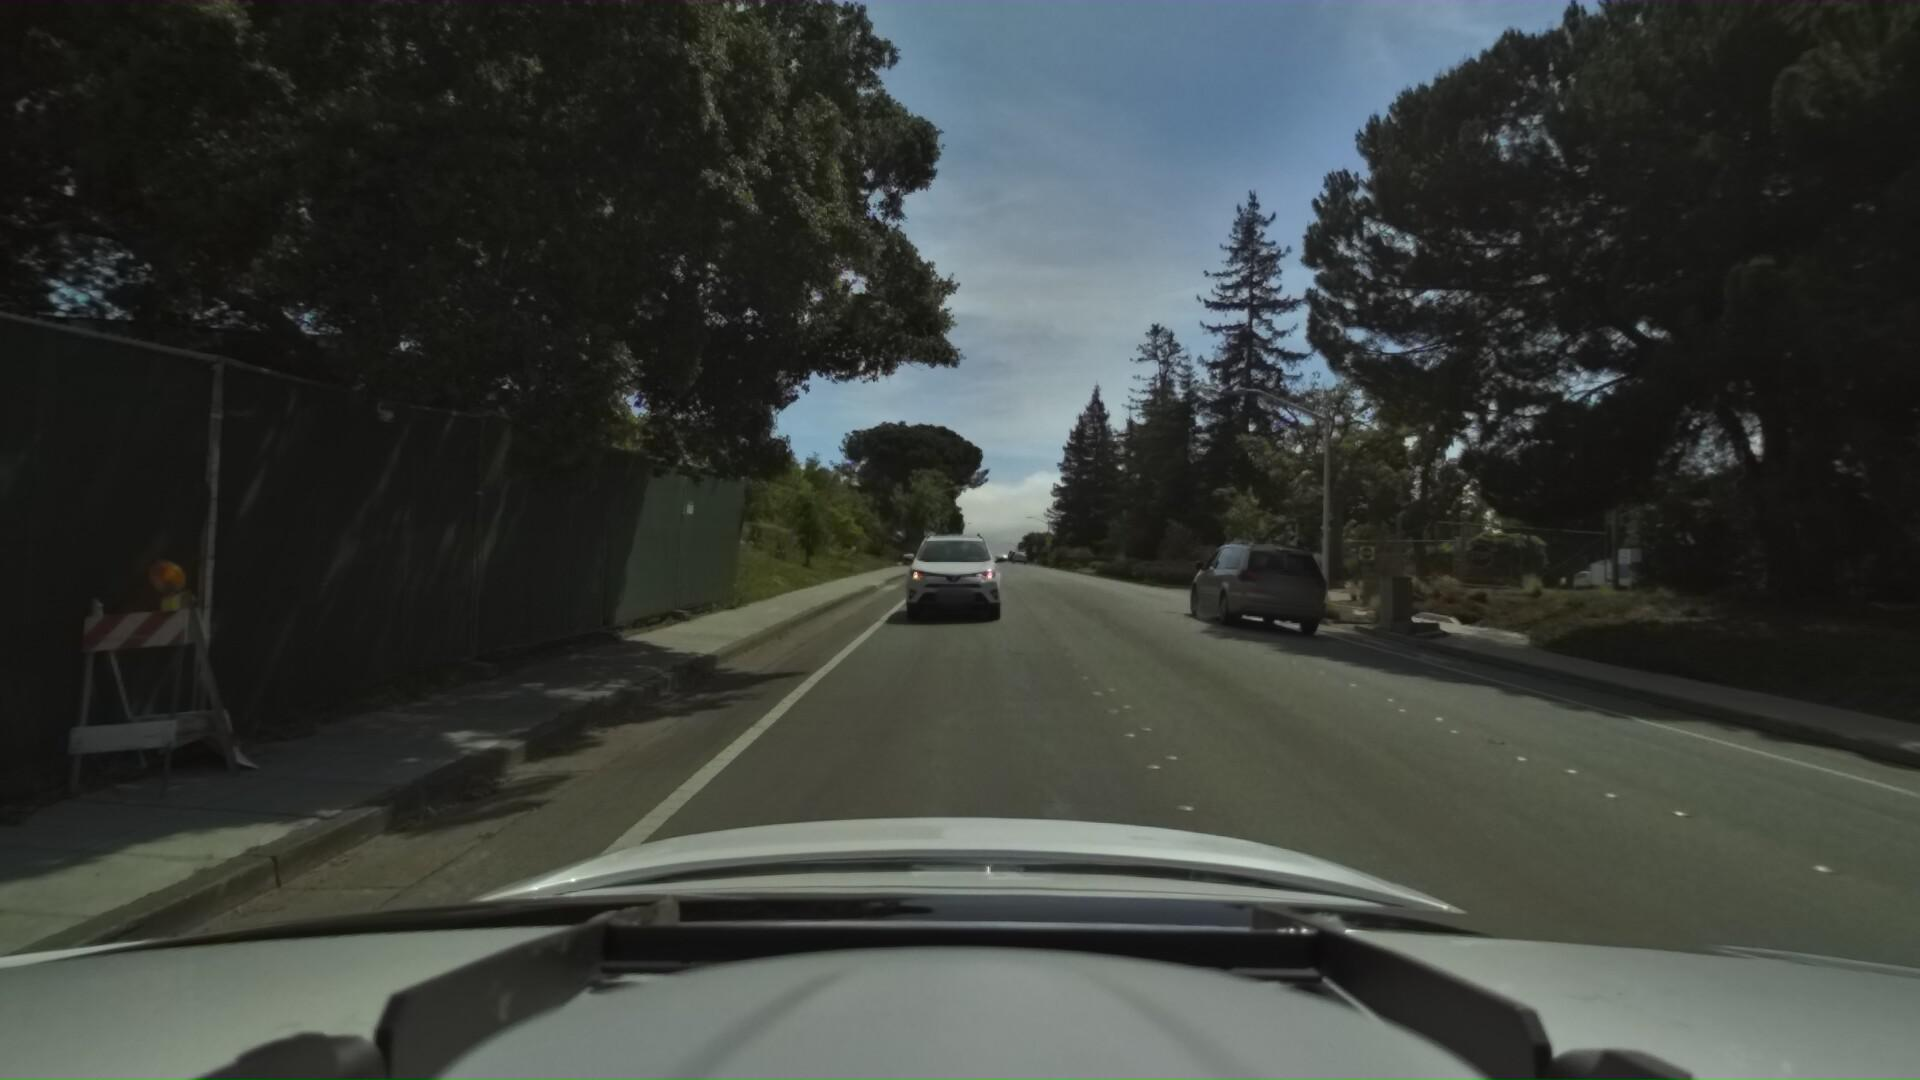car: (1185, 526, 1350, 632), (891, 504, 1002, 617)
